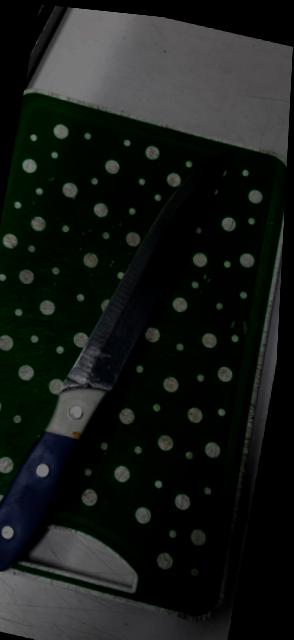Knife: (0, 152, 230, 570)
